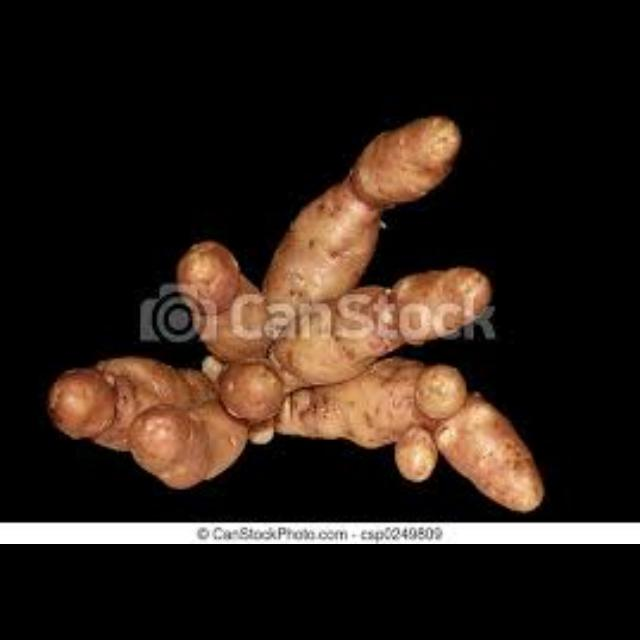Damaged potato: (52, 118, 554, 512)
